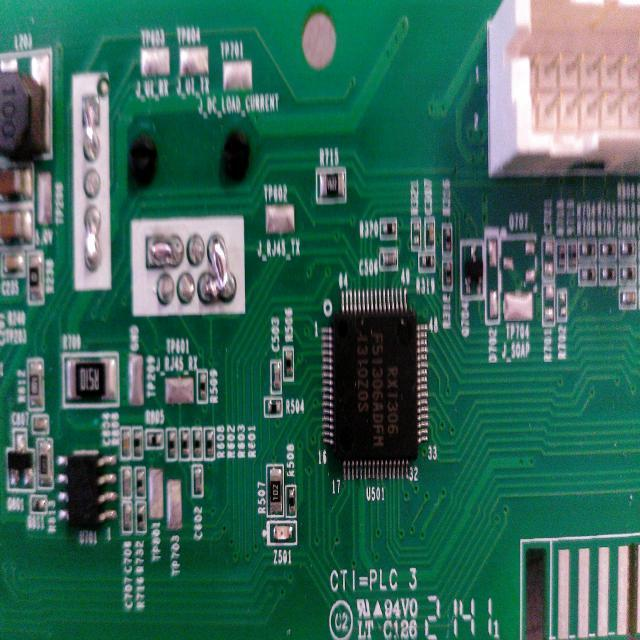Soldering shorted: (198, 226, 238, 305), (140, 230, 185, 270), (78, 92, 102, 163), (81, 202, 105, 272)
